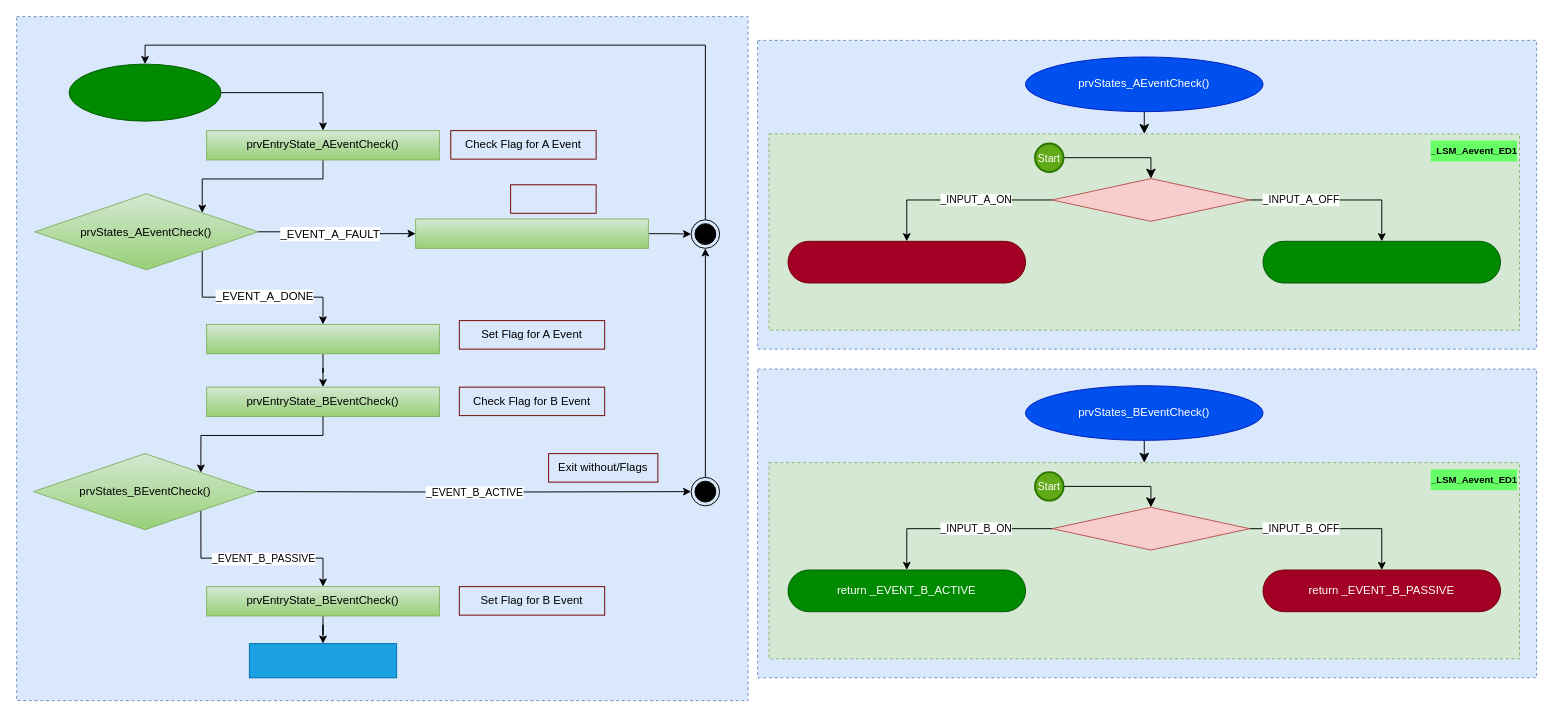
Image size: 1553x717. Some labels were removed from this diagram. The box of each missing label's shape, as (x1, y1, x2, y2) in pixels:
Exit with Flags: (510, 184, 596, 213)
input->A: (1051, 178, 1250, 221)
input->B: (1051, 506, 1250, 550)
prvExitFromTask(): (415, 218, 648, 248)
prvExitState_AEventCheck(): (206, 323, 439, 354)
return _EVENT_A_DONE: (1262, 240, 1501, 283)
return _EVENT_A_FAULT: (787, 240, 1026, 283)
Task_1_(): (68, 63, 221, 121)
Task_2_(): (248, 643, 397, 678)
